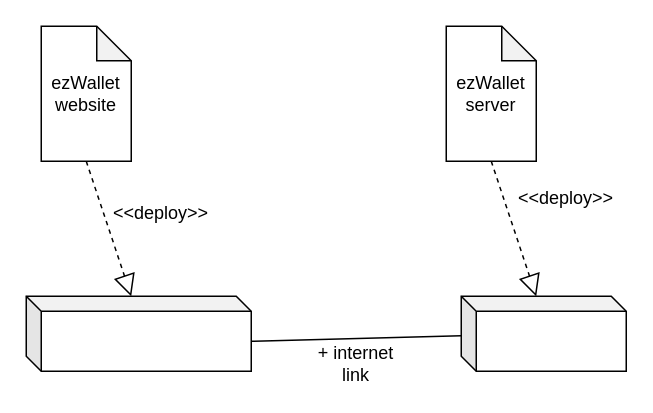
This 653x413 diagram has some shape labels left out. The shapes that lost their labels are listed below. From the top down, each one's centre as x and y in pixels, then its label:
At [138,333]: "Browser (PC or phone)".
At [543,333]: "Server".
